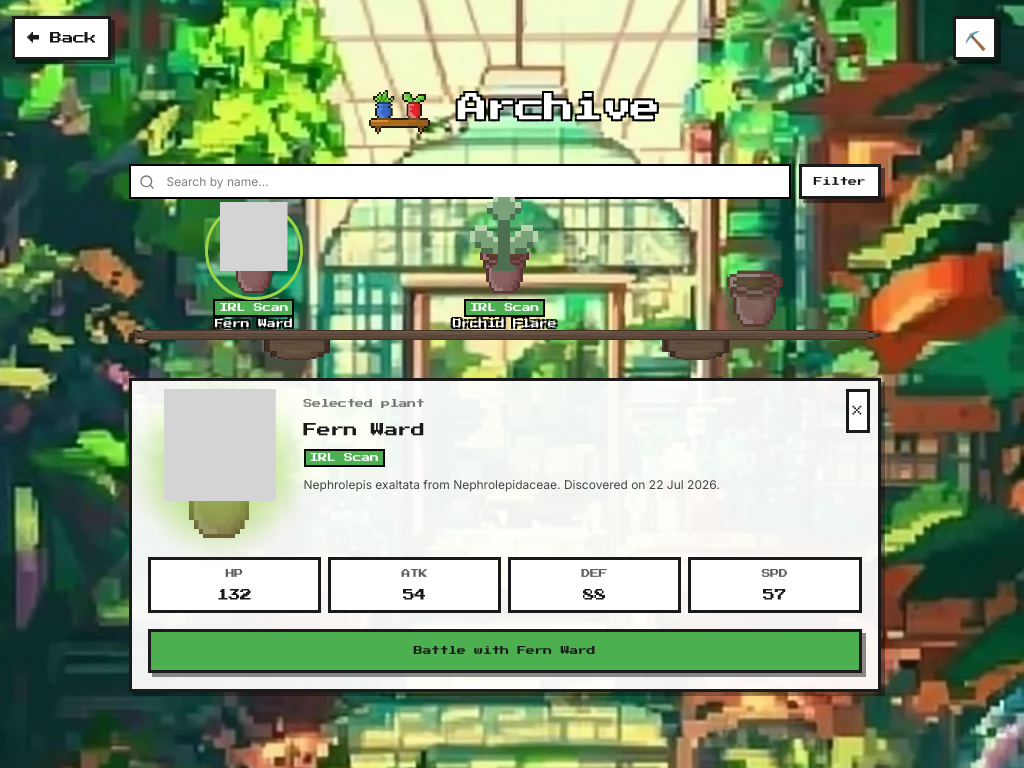
Test: ArchivePage › keeps the plant when the dig is cancelled
Step 1. Click the button named "remove plants" → click(975, 38), box [953, 16, 997, 60]
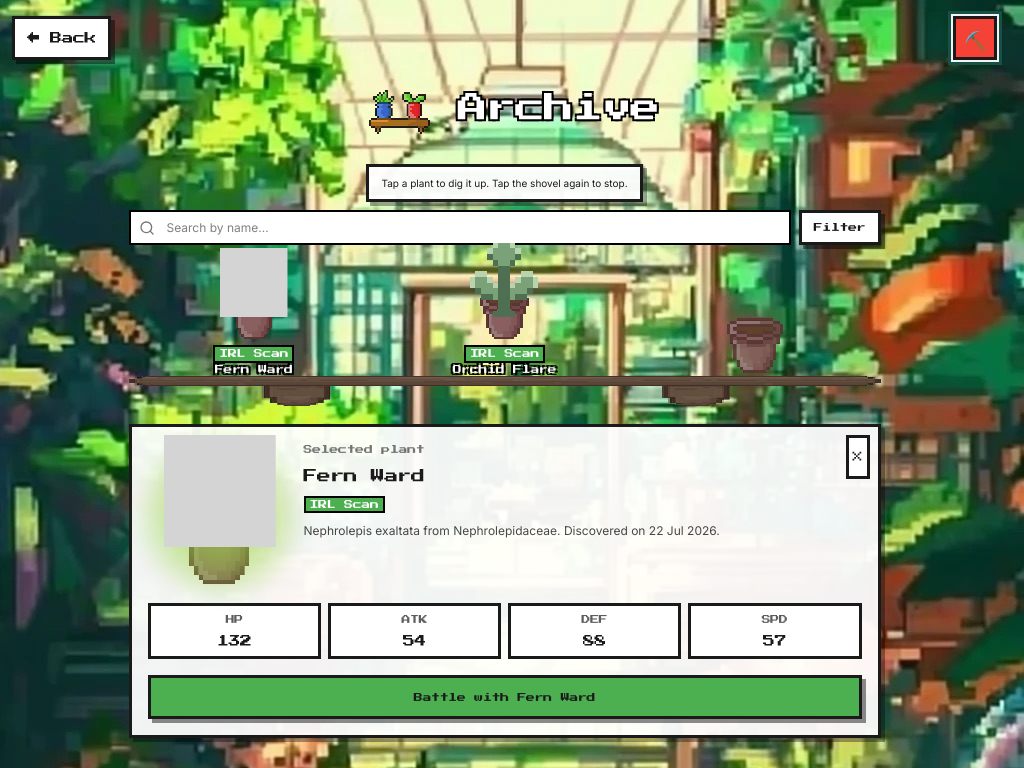
Step 2. Click the button with aria-label "dig up fern ward" → click(254, 315), box [128, 253, 379, 376]
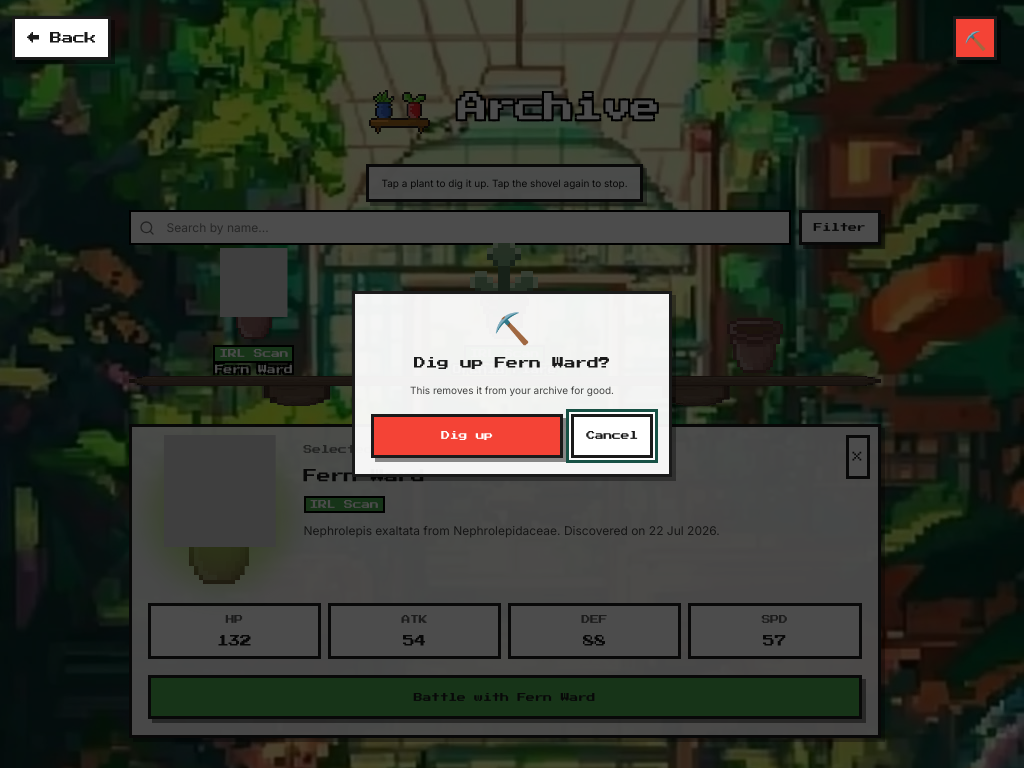
Step 3. Click the button "Cancel" → click(612, 436), box [571, 414, 653, 458]
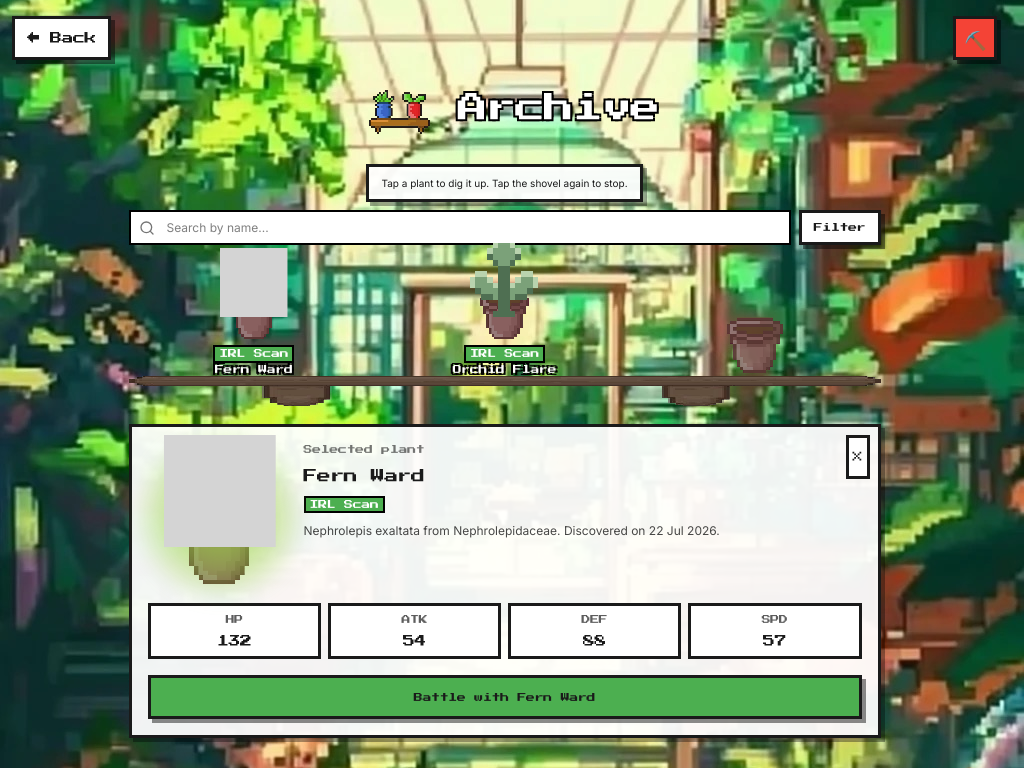
Expected: the button with aria-label "dig up fern ward" is shown, [128, 253, 379, 376]
Expected: the dialog is gone
